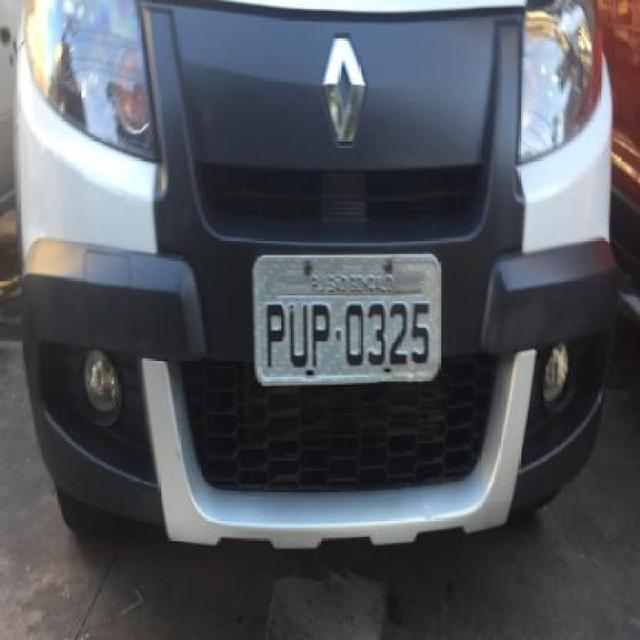old_plate: (244, 247, 448, 391)
